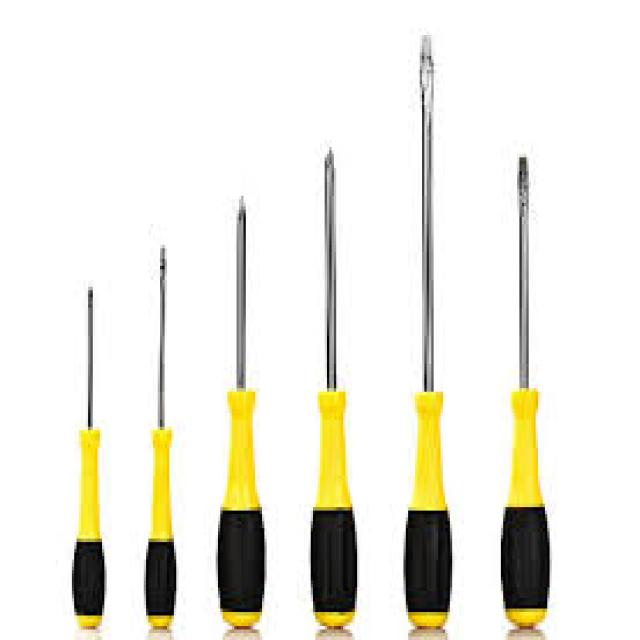screw driver: (487, 136, 591, 640), (392, 7, 464, 630), (296, 140, 371, 614), (206, 200, 278, 640), (57, 250, 130, 634), (139, 235, 196, 640)
